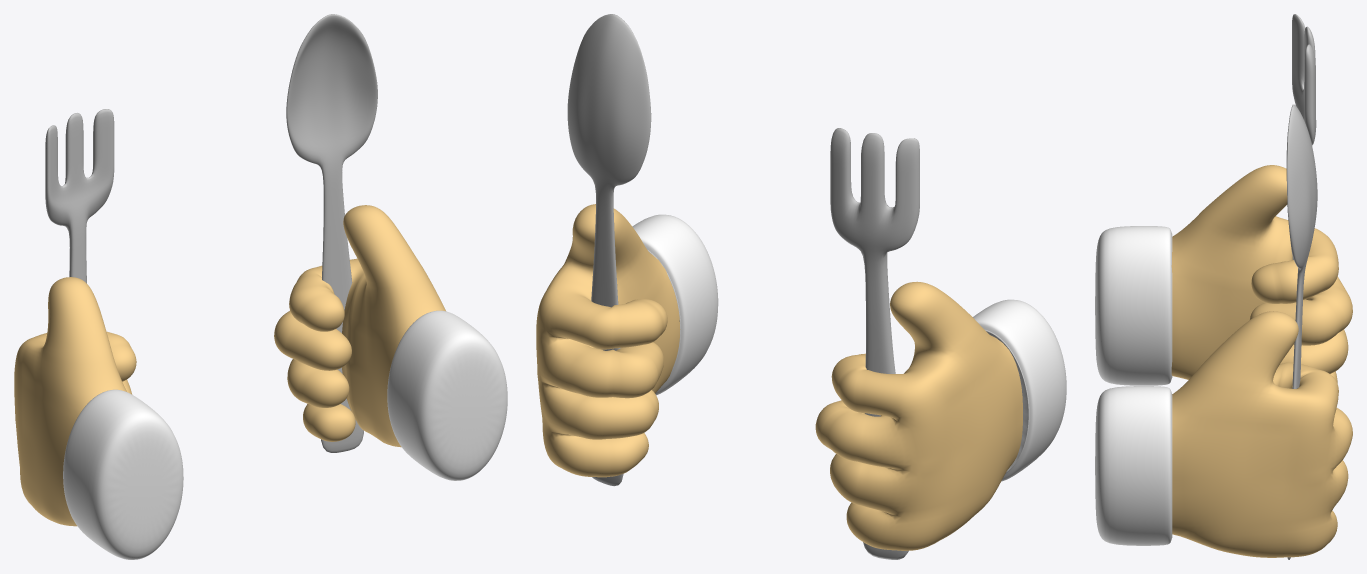
The model's file is customize.glb.
The picture shows the model from 3 angles, left to right: view 1: azimuth 30°, elevation 25°; view 2: azimuth 150°, elevation 25°; view 3: azimuth 270°, elevation 25°; orthographic projection. The views are drawn at different scales.
Parts seen in each view (by area): view 1: Cube_4, Cylinder_24, Plane_3, Plane.001_28; view 2: Cube_4, Cylinder_24, Plane_3, Plane.001_28; view 3: Cube_4, Cylinder_24, Plane_3, Plane.001_28.
Part boxes in pixels (bbox=[...]): Cube_4: bbox=[14, 205, 445, 526]; Cylinder_24: bbox=[63, 310, 507, 559]; Plane_3: bbox=[286, 14, 377, 452]; Plane.001_28: bbox=[45, 109, 114, 283]; Cube_4: bbox=[536, 204, 1022, 550]; Cylinder_24: bbox=[632, 214, 1066, 481]; Plane_3: bbox=[567, 14, 651, 486]; Plane.001_28: bbox=[830, 128, 919, 559]; Cube_4: bbox=[1171, 165, 1352, 557]; Cylinder_24: bbox=[1095, 226, 1172, 545]; Plane_3: bbox=[1286, 104, 1317, 559]; Plane.001_28: bbox=[1292, 14, 1316, 259].
Size of the model in its own units: 4.67 by 4.76 by 2.47.
